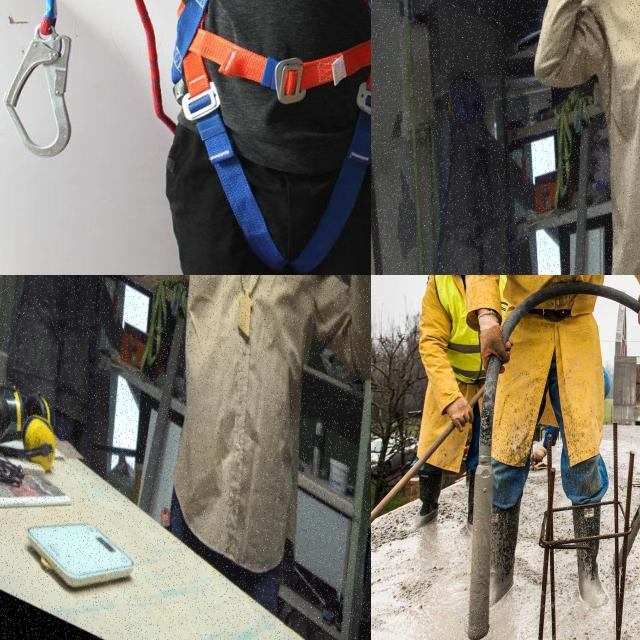Harness: (166, 0, 371, 218), (0, 0, 81, 161)
boots: (468, 499, 520, 614), (567, 500, 614, 616)
hand_glove: (476, 305, 521, 391), (444, 392, 476, 439), (632, 275, 640, 334)
person: (472, 275, 640, 610), (414, 275, 484, 532)
